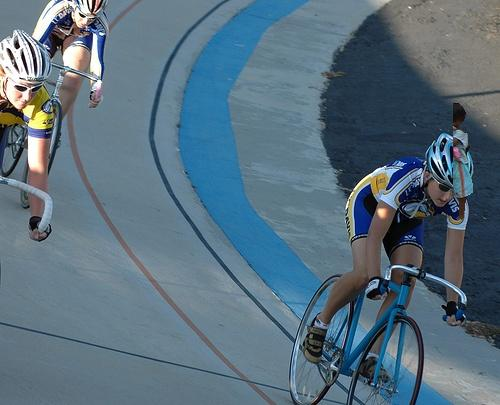tampered: (454, 104, 473, 220)
